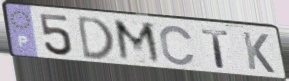5: (37, 13, 75, 58)
C: (158, 24, 198, 67)
D: (76, 14, 116, 61)
K: (240, 30, 277, 75)
M: (111, 18, 164, 67)
T: (199, 28, 231, 70)
